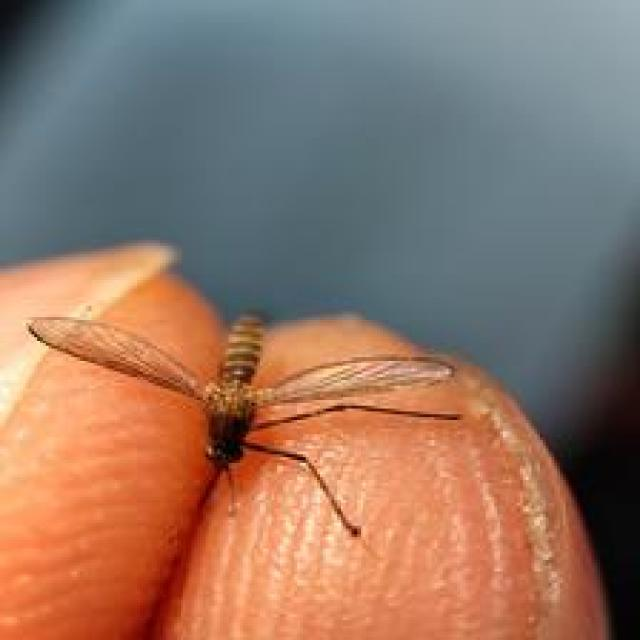Culex: (26, 304, 463, 539)
